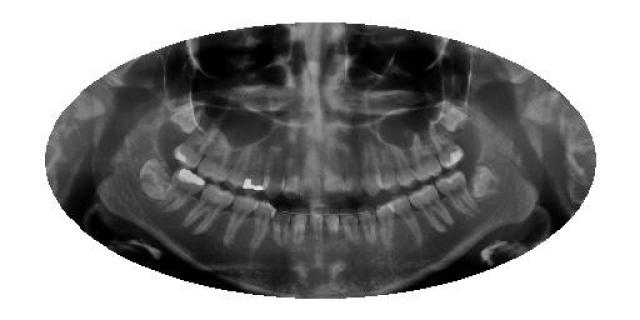Fillings: (157, 167, 205, 215), (172, 118, 218, 168), (428, 120, 464, 170), (244, 144, 265, 195)
Restorations: (468, 160, 502, 204)
